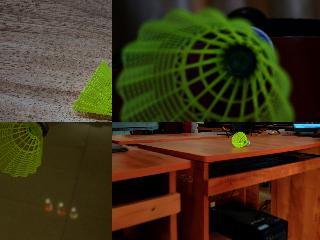shuttlecock: (115, 7, 297, 121), (0, 122, 49, 177), (73, 61, 111, 121), (230, 131, 250, 148)
